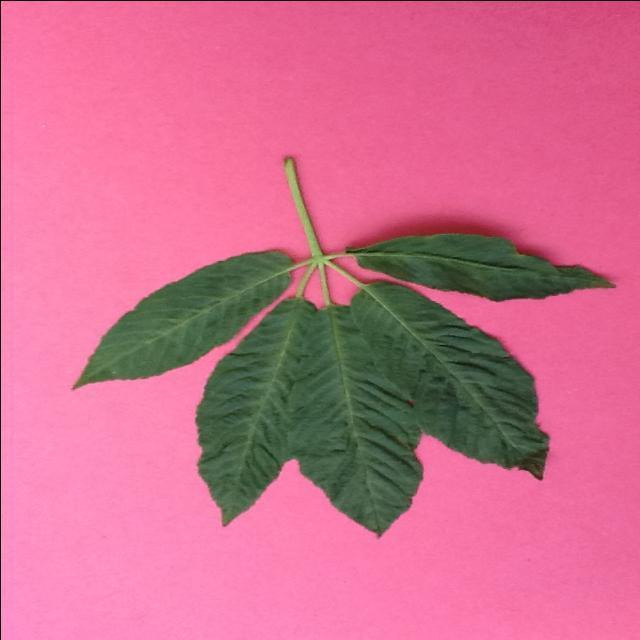foliage: (327, 263, 556, 482), (62, 242, 318, 392), (182, 260, 324, 530), (291, 268, 427, 544), (327, 225, 618, 307)
